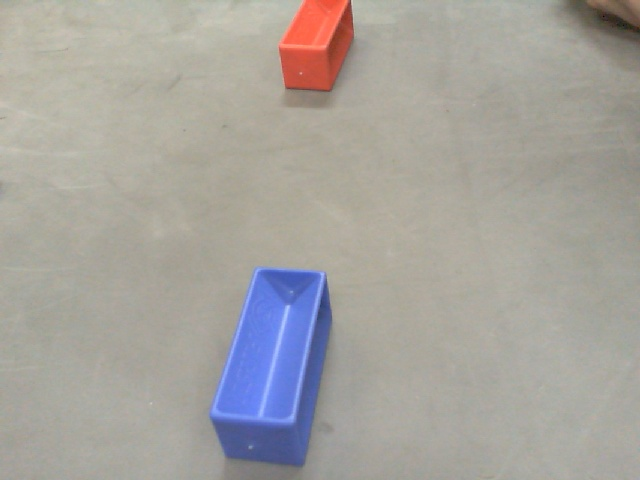BlueSample: (210, 268, 334, 464)
RedSample: (277, 1, 356, 94)
